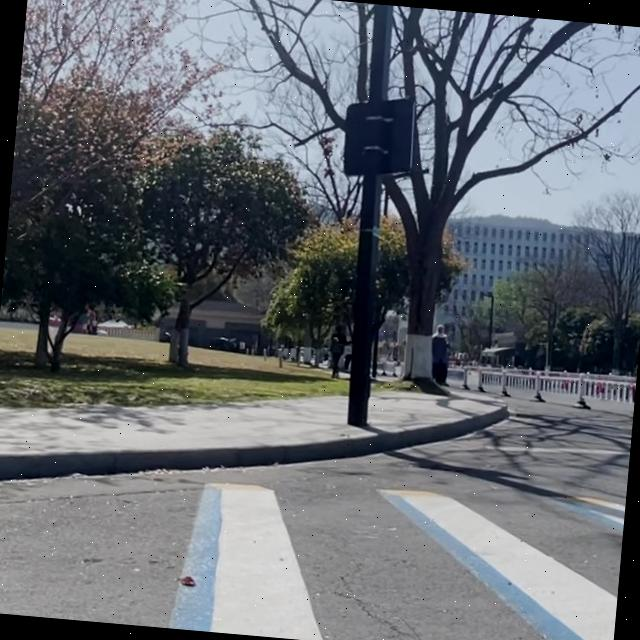curb: (0, 407, 507, 479)
